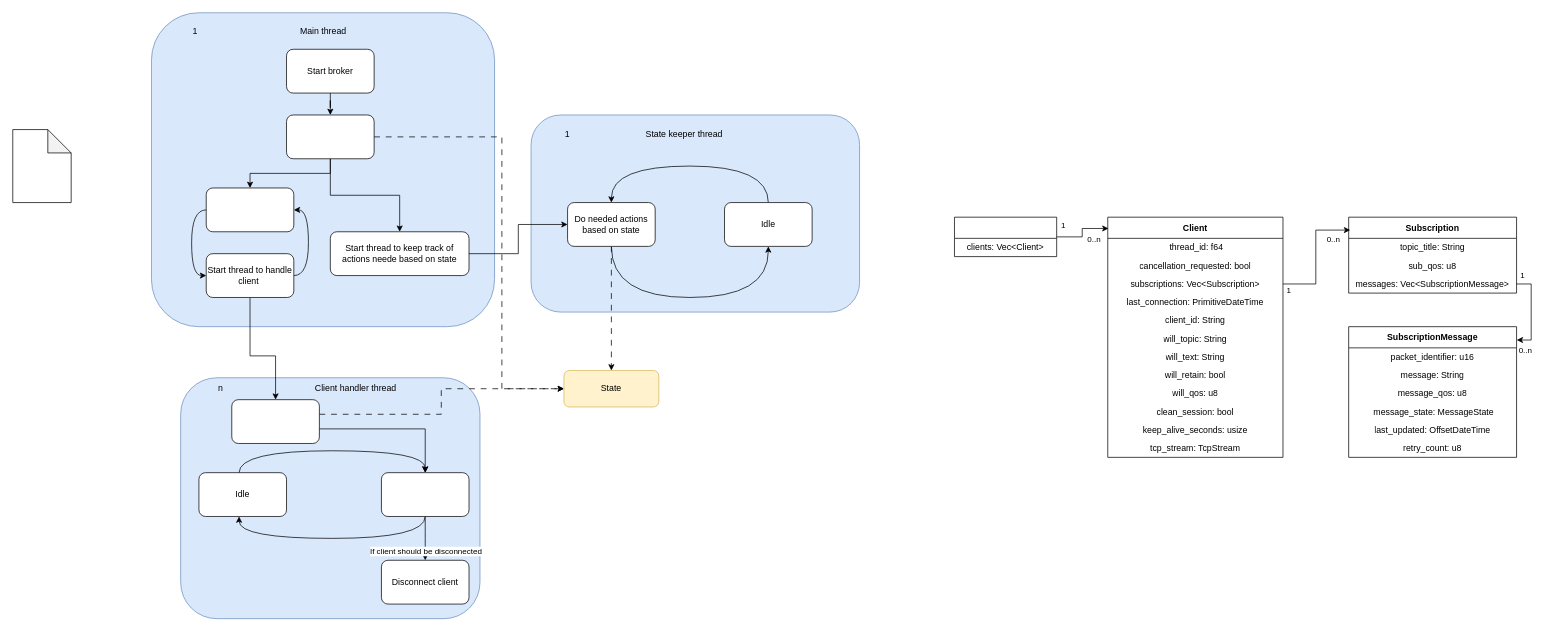
Some shapes in this 1550 by 631 pixel diagram are drawn without their labels. Here are the shapes that lost their labels. From the top down, the box of each, then its label:
(286, 114, 374, 159): Create global state
(12, 129, 71, 203): The blue background signifies a thread
(205, 187, 294, 232): Waiting for new TCP connections
(954, 216, 1057, 257): BrokerState
(231, 399, 319, 443): Create client in state
(381, 472, 469, 516): Handle mqtt request
